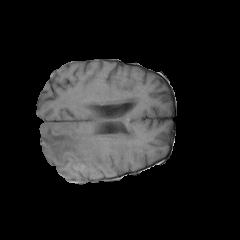glioma: (40, 96, 137, 175)
